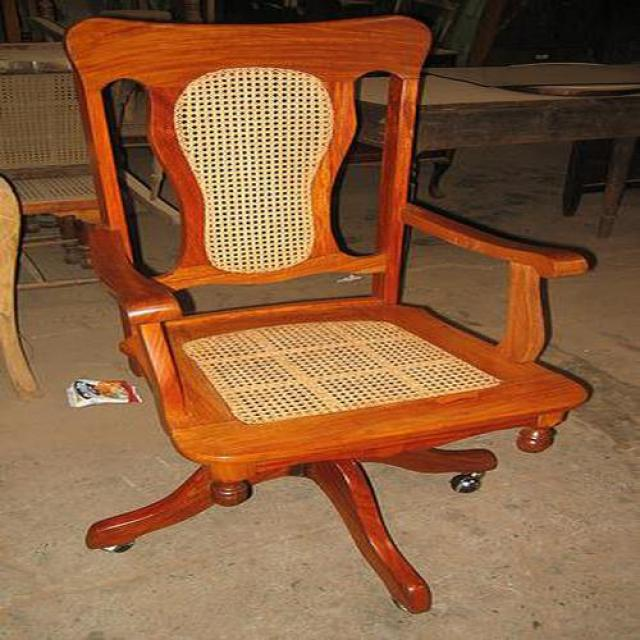swivelchair: (63, 14, 593, 617)
